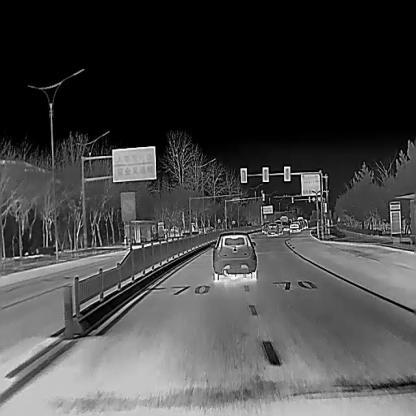car: (211, 231, 258, 280), (267, 221, 278, 236), (273, 218, 282, 234), (290, 221, 301, 233), (261, 220, 269, 233), (282, 221, 290, 231), (280, 215, 288, 223)
